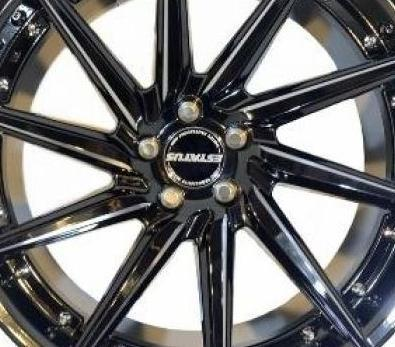hole: (210, 177, 240, 207), (154, 183, 185, 212), (220, 121, 251, 150), (174, 94, 203, 124), (133, 134, 161, 162)
